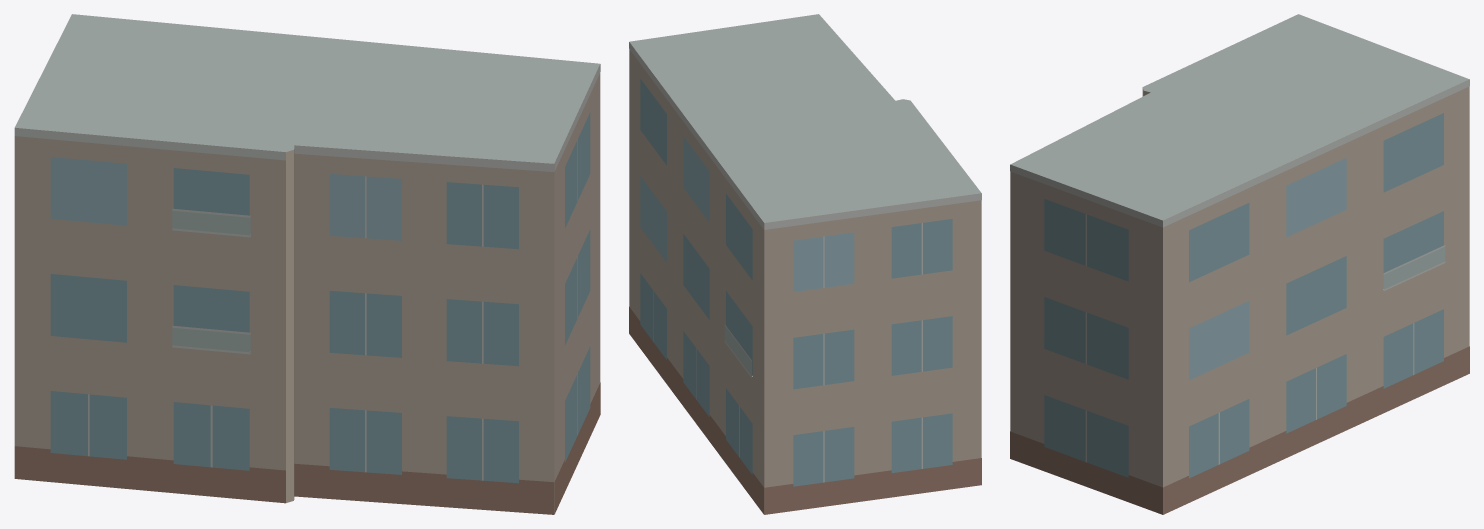
Rendered from survey-upis-32882331.glb.
3 views of the same model, side by side, from view 1: azimuth 30°, elevation 25°; view 2: azimuth 150°, elevation 25°; view 3: azimuth 270°, elevation 25° (orthographic). The views are drawn at different scales.
Visible parts, largest first — view 1: survey-upis-32882331.tmp; view 2: survey-upis-32882331.tmp; view 3: survey-upis-32882331.tmp.
Boxes of the visible parts, left/top/right/bottom form: survey-upis-32882331.tmp: left=14, top=14, right=600, bottom=514; survey-upis-32882331.tmp: left=629, top=14, right=981, bottom=514; survey-upis-32882331.tmp: left=1010, top=14, right=1469, bottom=514.
Size of the model in its own units: 15.51 by 10.3 by 14.58.
